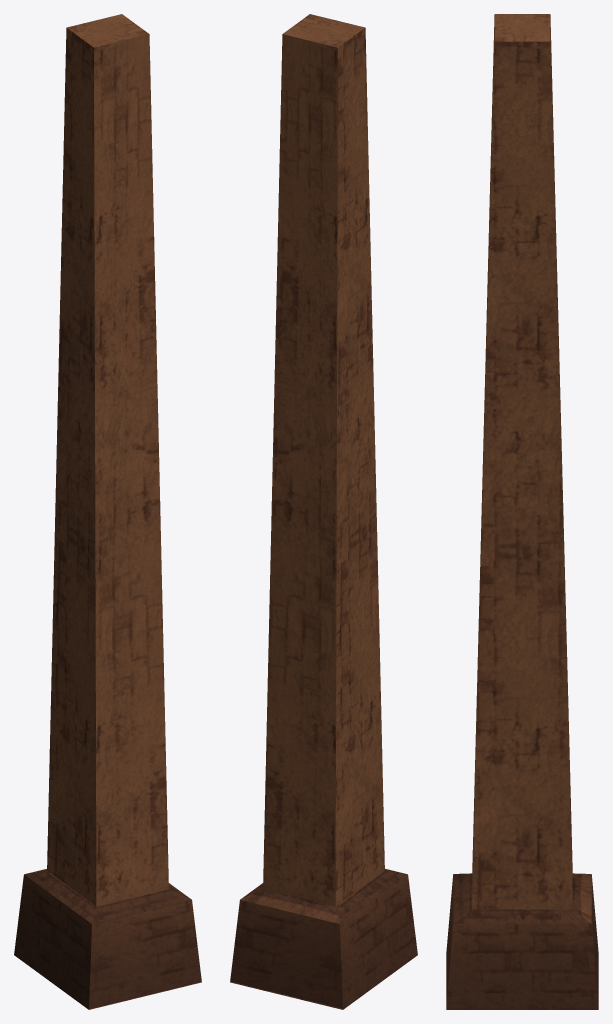
The model's file is Pillar_High_Corner.FBX.
3 views of the same model, side by side, from view 1: azimuth 30°, elevation 25°; view 2: azimuth 150°, elevation 25°; view 3: azimuth 270°, elevation 25° (orthographic).
Parts seen in each view (by area): view 1: Pillar_High_Corner; view 2: Pillar_High_Corner; view 3: Pillar_High_Corner.
Boxes of the visible parts, <box> form: Pillar_High_Corner: <box>14,14,201,1009</box>; Pillar_High_Corner: <box>230,14,417,1009</box>; Pillar_High_Corner: <box>446,14,598,1009</box>.
Size of the model in its own units: 26.52 by 210 by 30.46.
Materials: 1 (1 with a texture image).
